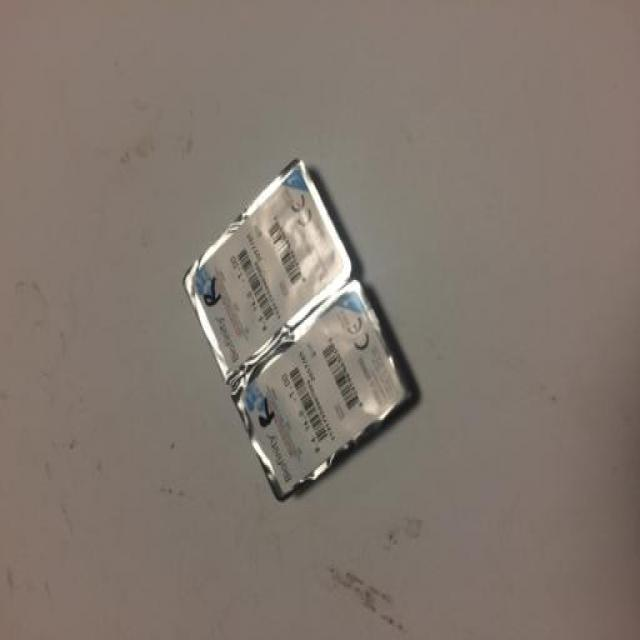plastic: (178, 149, 442, 521)
